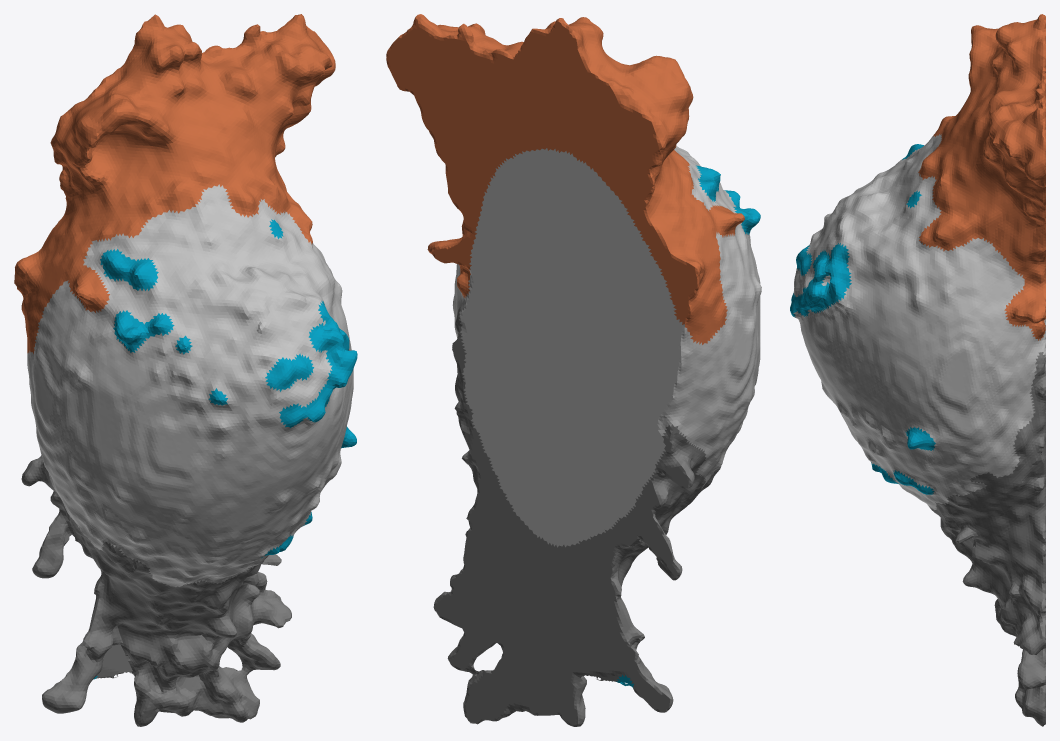
The picture shows the model from 3 angles, left to right: view 1: azimuth 30°, elevation 25°; view 2: azimuth 150°, elevation 25°; view 3: azimuth 270°, elevation 25°; orthographic projection. The views are drawn at different scales.
Size of the model in its own units: 89.21 by 193 by 66.78.
